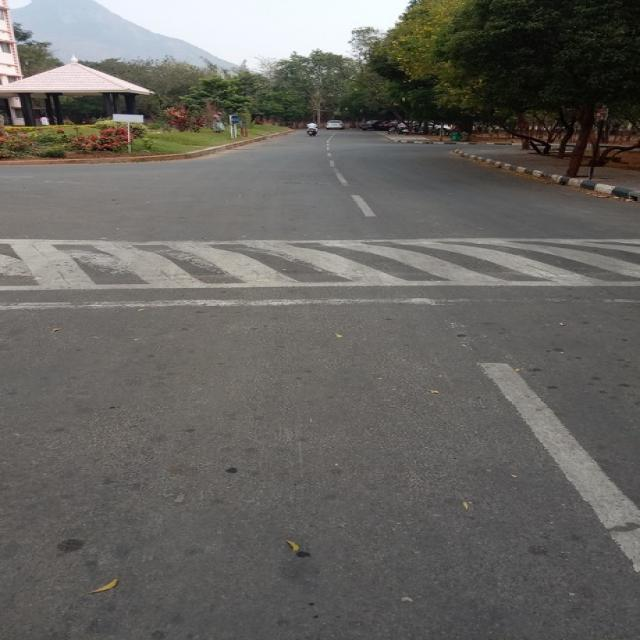speedbreaker: (0, 232, 640, 290)
